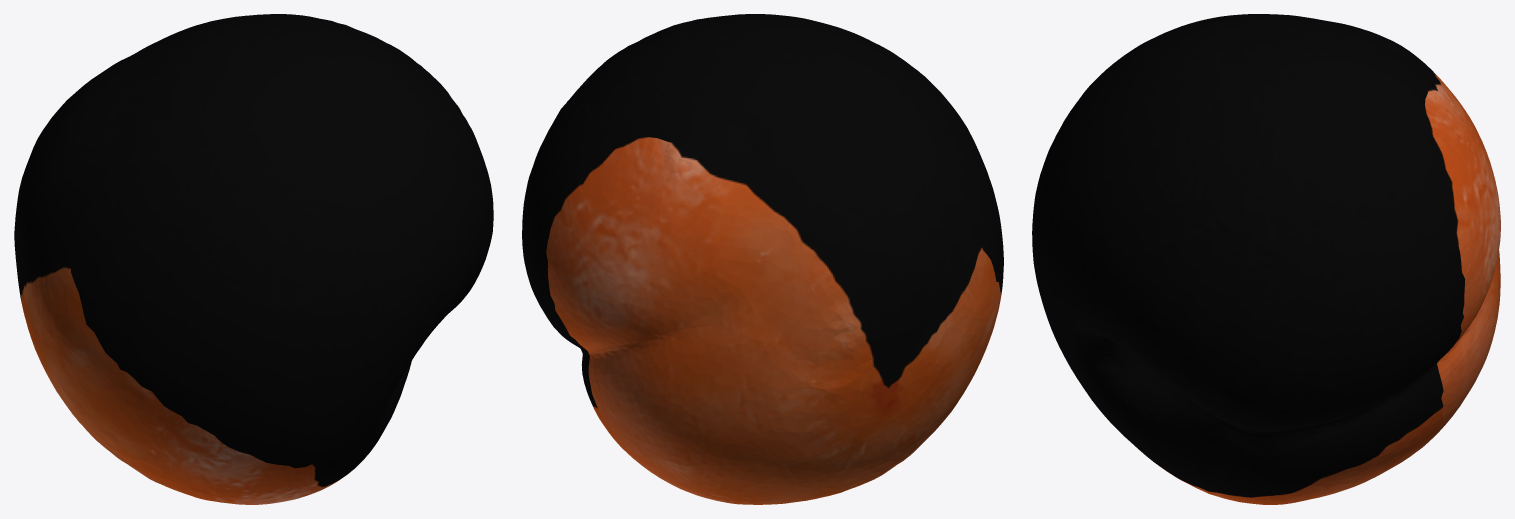
3 renders of one model, left to right at view 1: azimuth 30°, elevation 25°; view 2: azimuth 150°, elevation 25°; view 3: azimuth 270°, elevation 25°, orthographic. The views are drawn at different scales.
Visible parts, largest first — view 1: node; view 2: node; view 3: node.
Boxes of the visible parts, x1,y1,x2,y2 form: node: (14,14,493,504); node: (522,14,1003,504); node: (1032,14,1500,504).
Size of the model in its own units: 0.0621 by 0.0626 by 0.0586.
